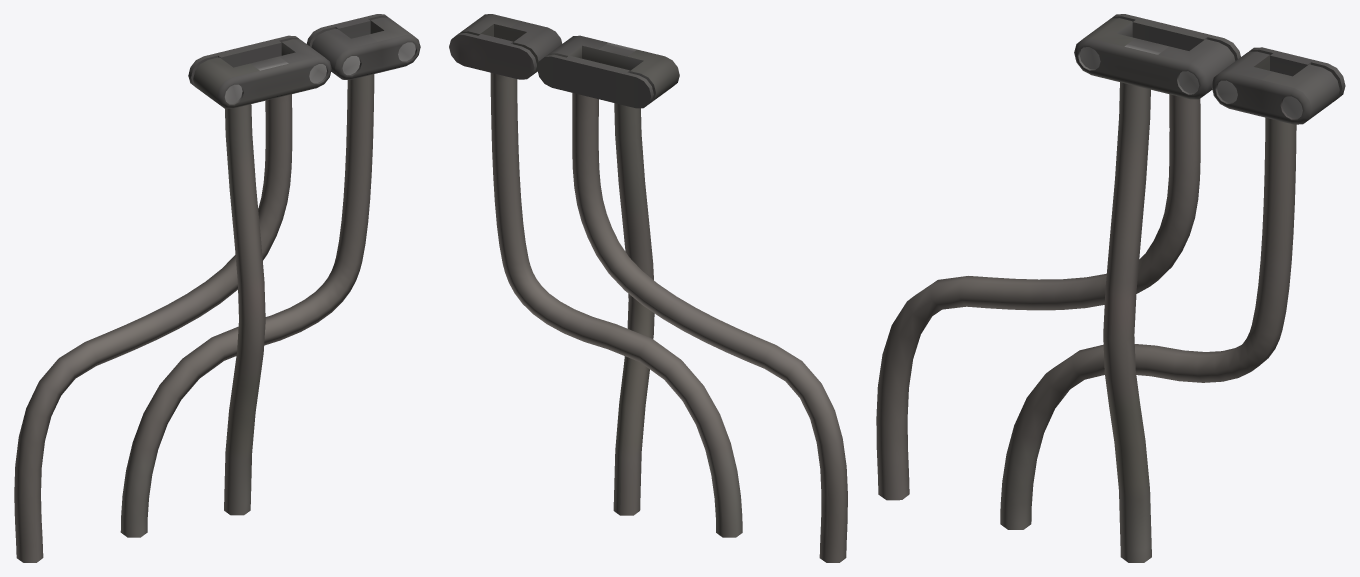
Rendered from wall-junction-box--5.gltf.
3 renders of one model, left to right at view 1: azimuth 30°, elevation 25°; view 2: azimuth 150°, elevation 25°; view 3: azimuth 330°, elevation 25°, orthographic. The views are drawn at different scales.
Parts seen in each view (by area): view 1: cable_3way_junction; view 2: cable_3way_junction; view 3: cable_3way_junction.
Boxes of the visible parts, x1,y1,x2,y2 form: cable_3way_junction: (14, 14, 420, 562); cable_3way_junction: (449, 14, 847, 562); cable_3way_junction: (876, 14, 1345, 562).
Size of the model in its own units: 0.1872 by 0.2087 by 0.0285.
Materials: 1 (1 with a texture image).
